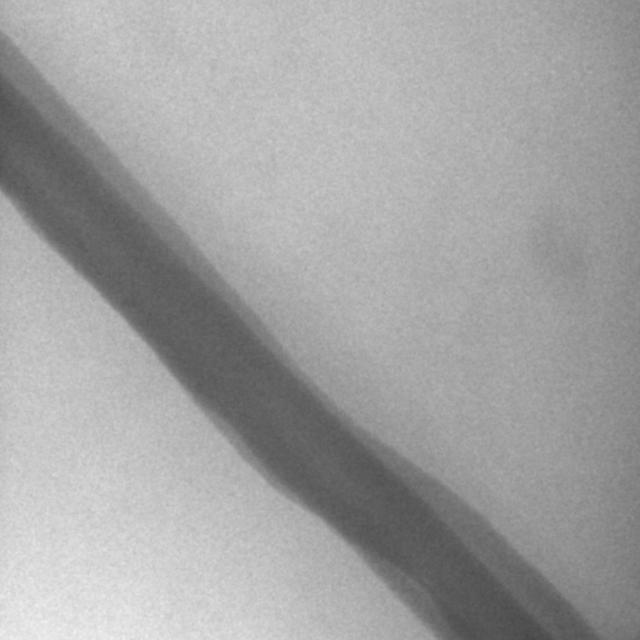unfused: (383, 561, 443, 615)
